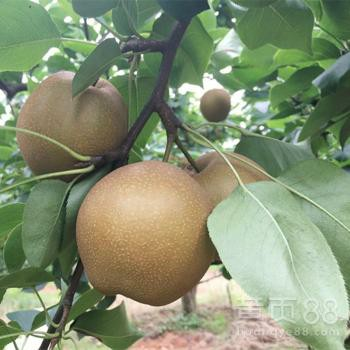pear: (77, 160, 215, 305), (15, 71, 127, 183), (186, 151, 271, 265), (200, 88, 232, 122)
